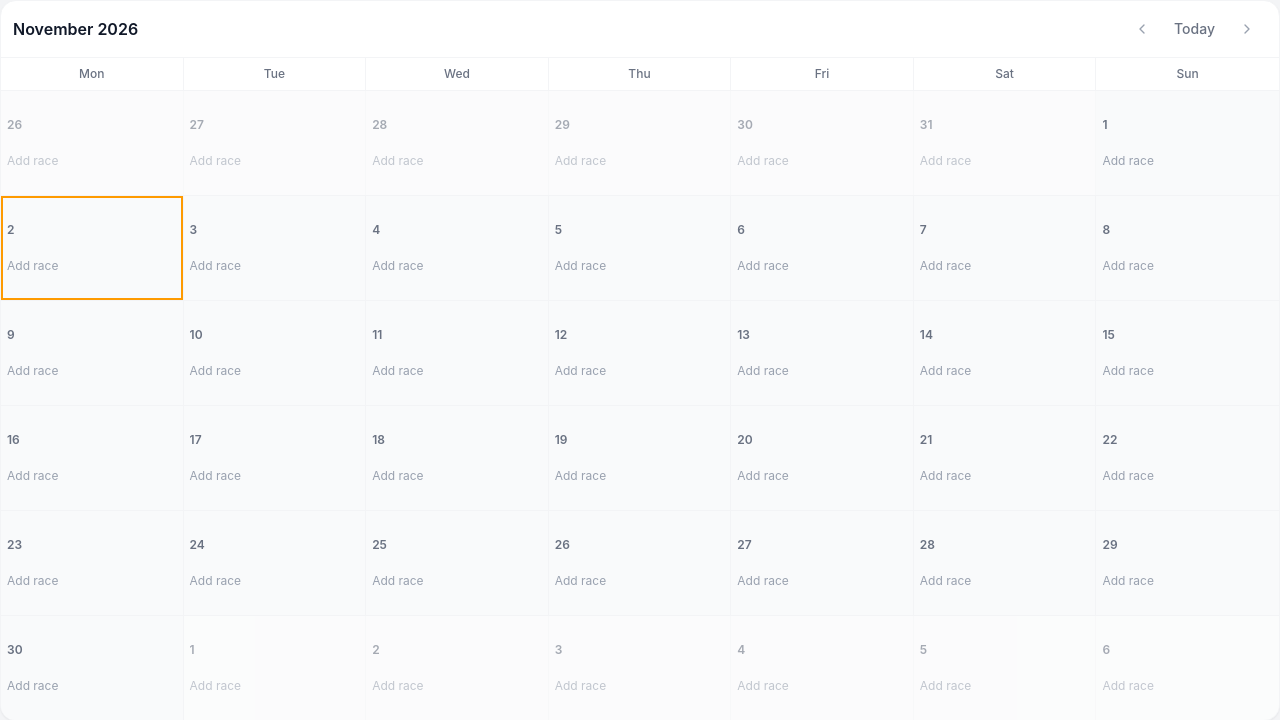
Scenario: TrainingCalendar › shows an error when saving a race event fails
Click the button named "next month".
click(1247, 29)  # box [1227,9,1267,49]
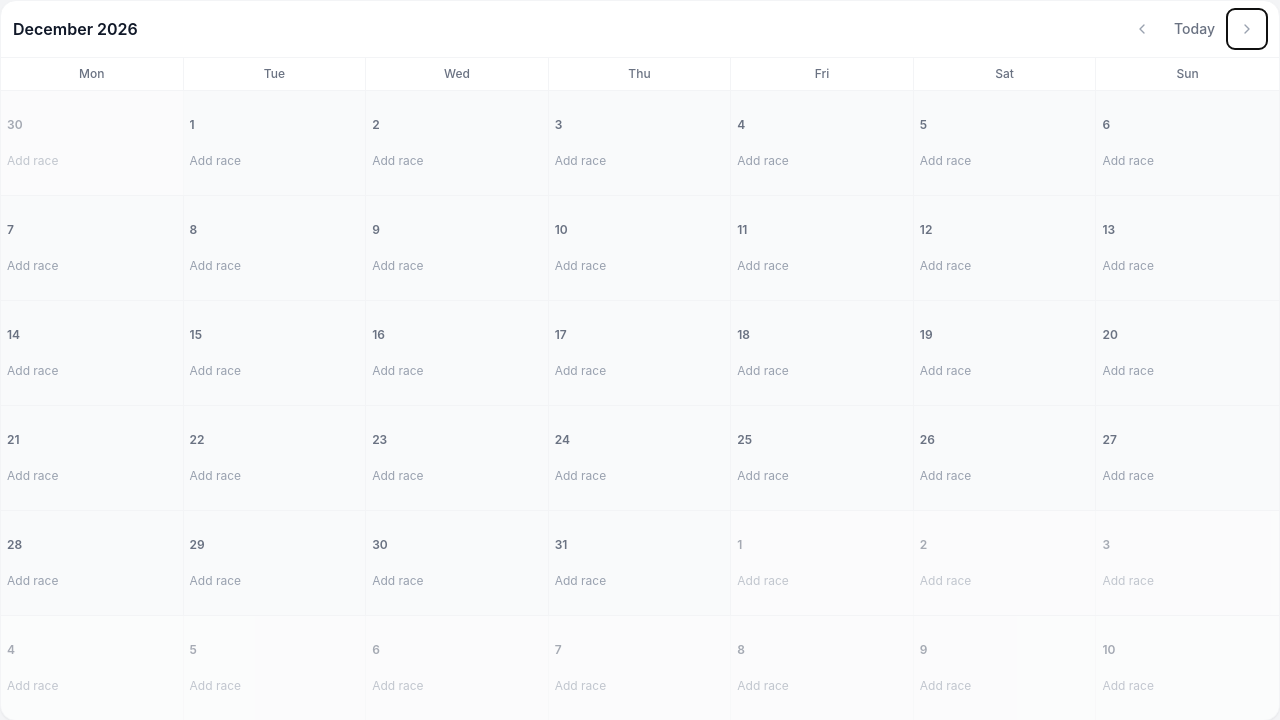
Click the 1st button "10 Add race".
click(640, 248)  # box [549,196,731,300]
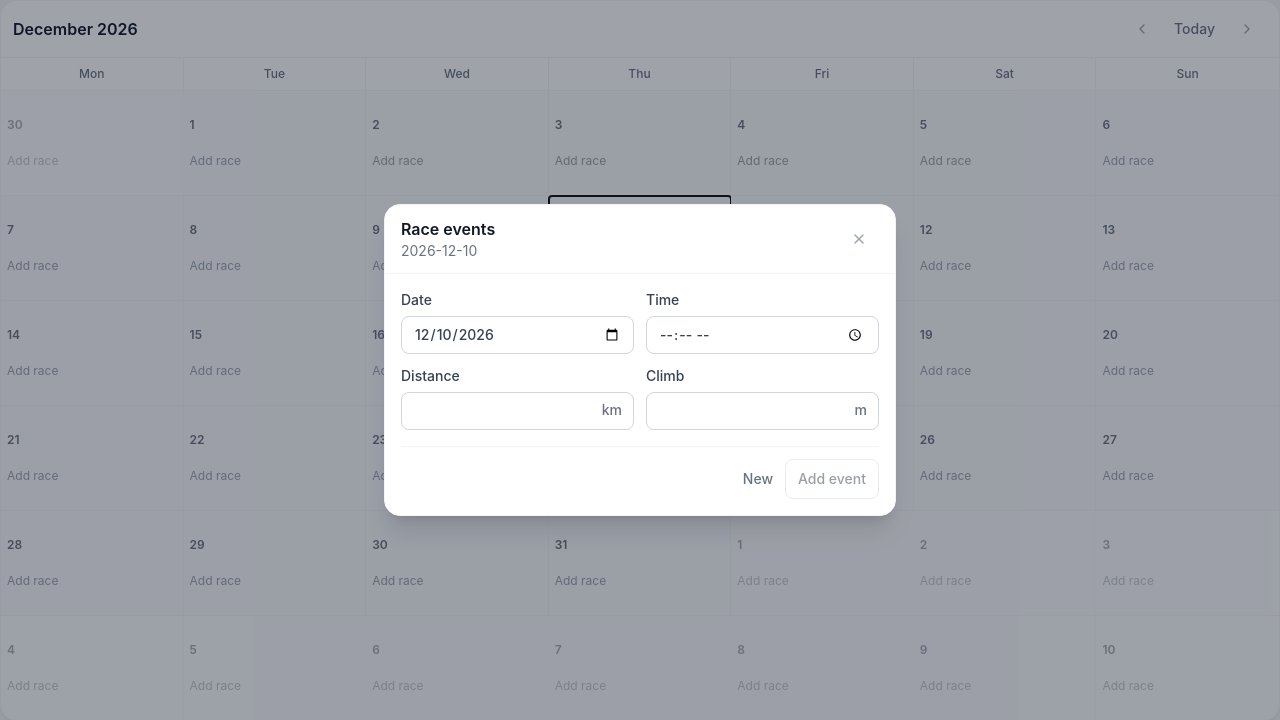
Type "120" into the number field labelled "Distance km".
click(518, 411); type("120")  # box [401,392,634,430]
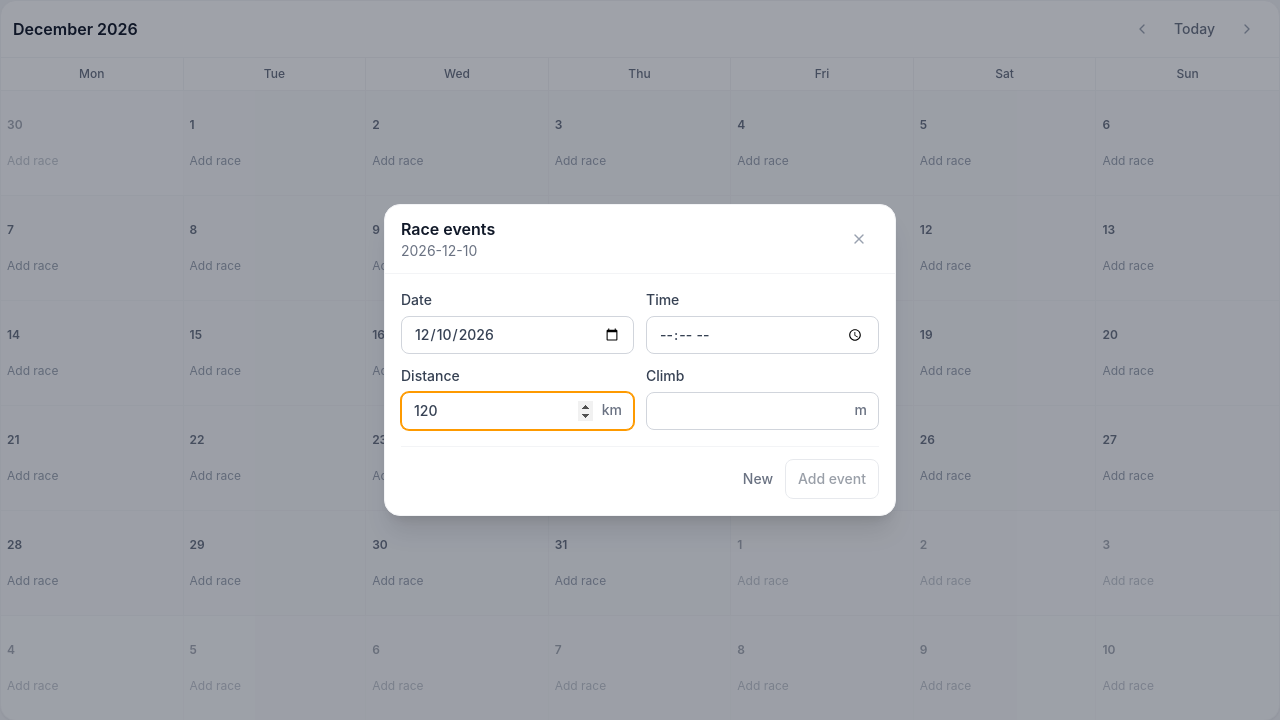
Type "1800" into the number field labelled "Climb m".
click(762, 411); type("1800")  # box [646,392,879,430]
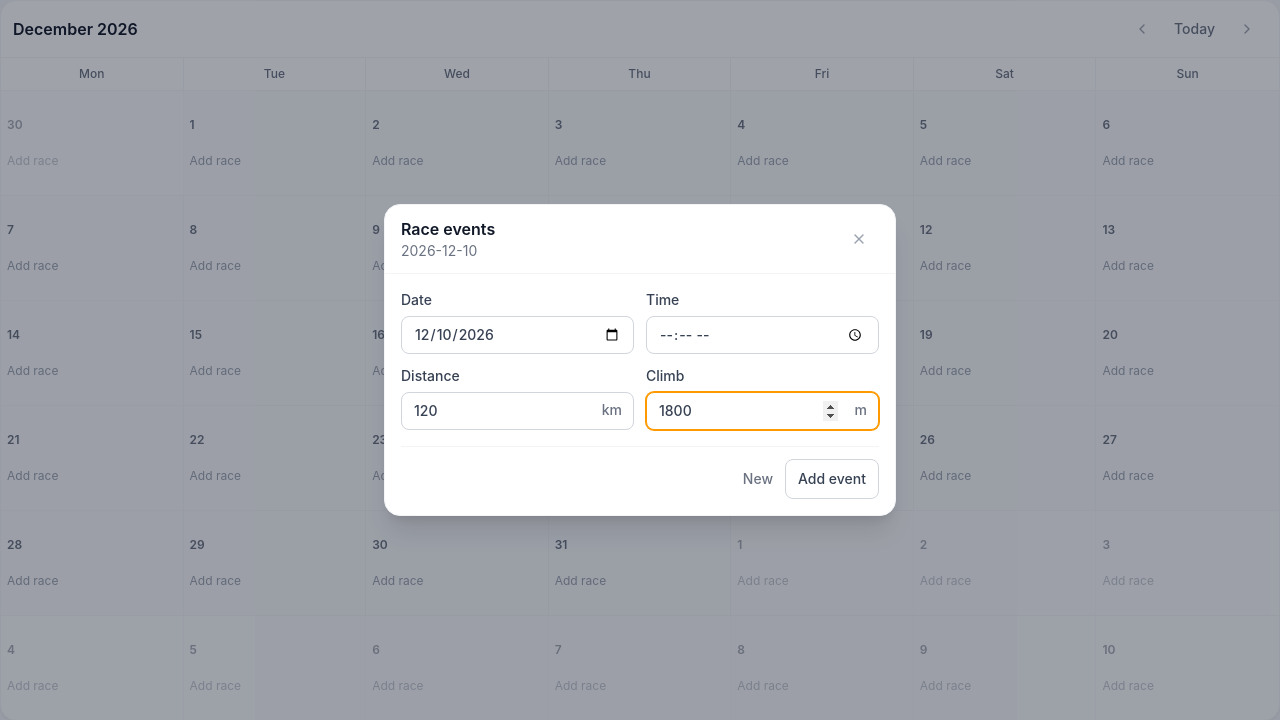
Click the button "Add event".
click(832, 479)  # box [785,459,879,499]
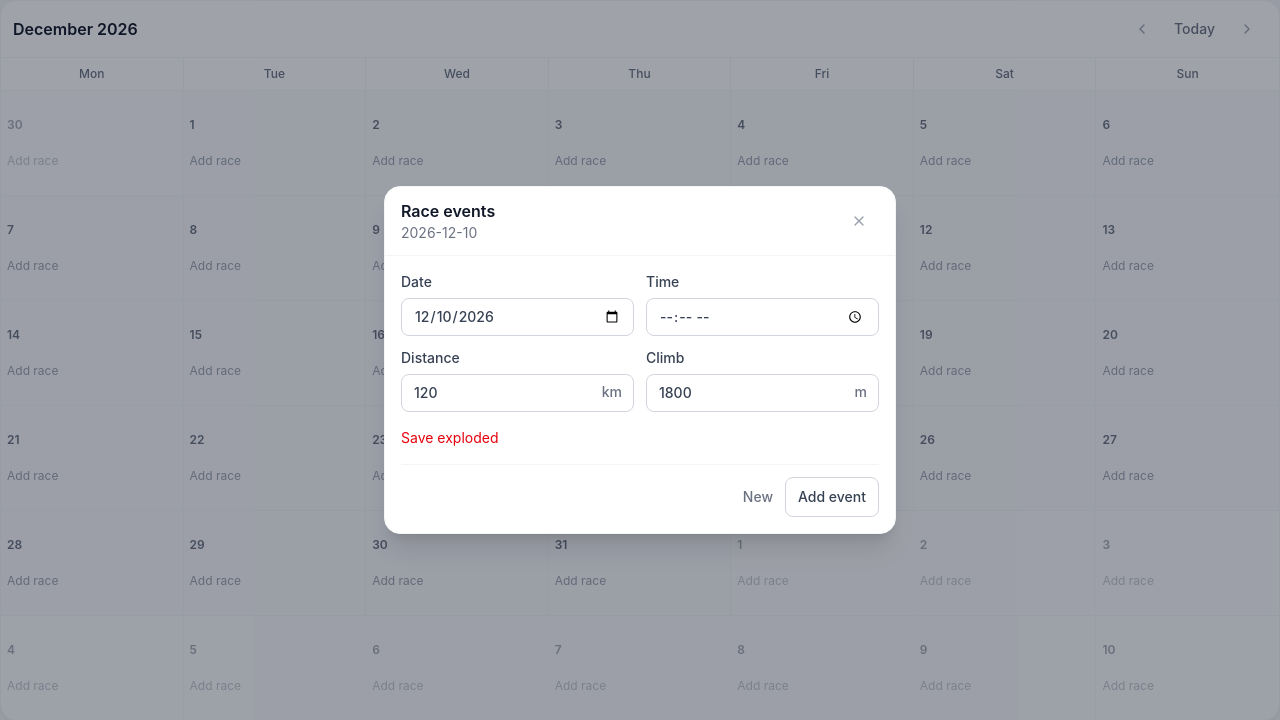
expect the text "Save exploded" is shown: met, box [401,429,498,446]
